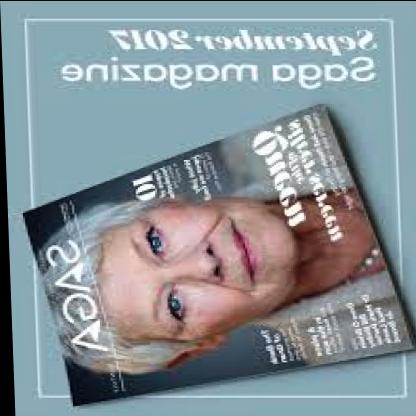Paper: (3, 103, 416, 416)
